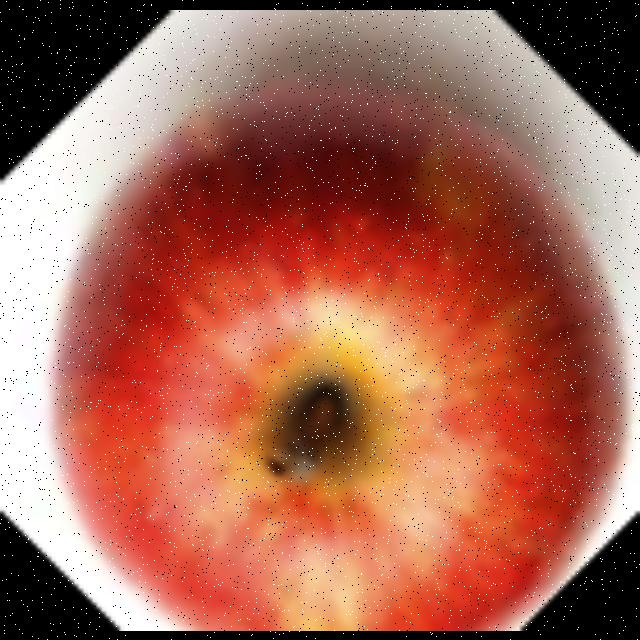Apel Segar: (59, 87, 640, 631)
